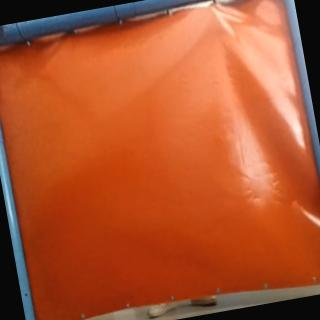Hit-hRxx: (202, 0, 222, 16)
